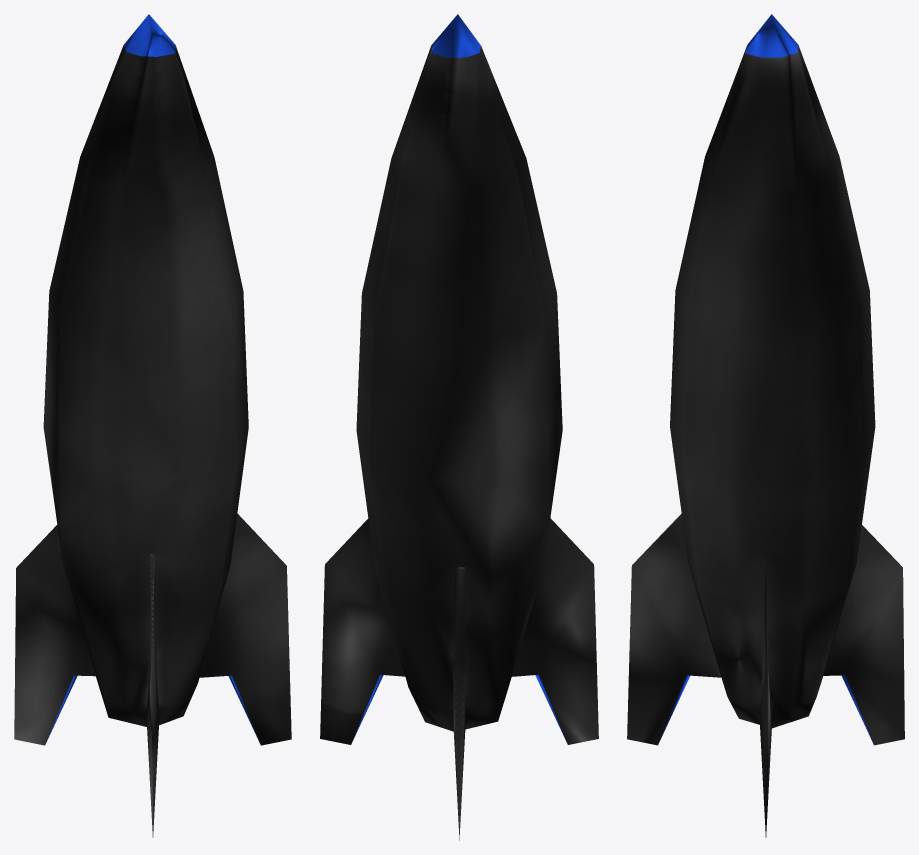
Rendered from Rocket_01.fbx.
3 views of the same model, side by side, from view 1: azimuth 30°, elevation 25°; view 2: azimuth 150°, elevation 25°; view 3: azimuth 270°, elevation 25° (orthographic).
Parts seen in each view (by area): view 1: Rocket_01; view 2: Rocket_01; view 3: Rocket_01.
Boxes of the visible parts, box(x1,y1,x2,y2) form: Rocket_01: box(14, 14, 291, 837); Rocket_01: box(320, 14, 598, 840); Rocket_01: box(627, 14, 904, 837).
Bounding box in the file's own units: 259 × 822 × 273.
Materials: 2 (1 with a texture image).
